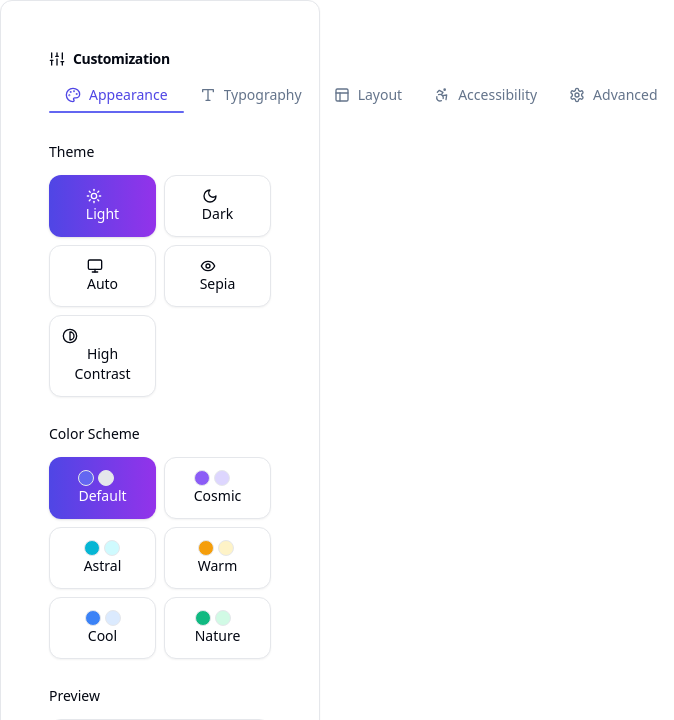
Test: Enhanced Note Editor - Accessibility Tests › High Contrast Mode › should apply high contrast styles when enabled
The image size is (674, 720).
Navigate to accessibility tab first
Click the tab "Accessibility". click: (486, 96)
box: [418, 77, 553, 115]
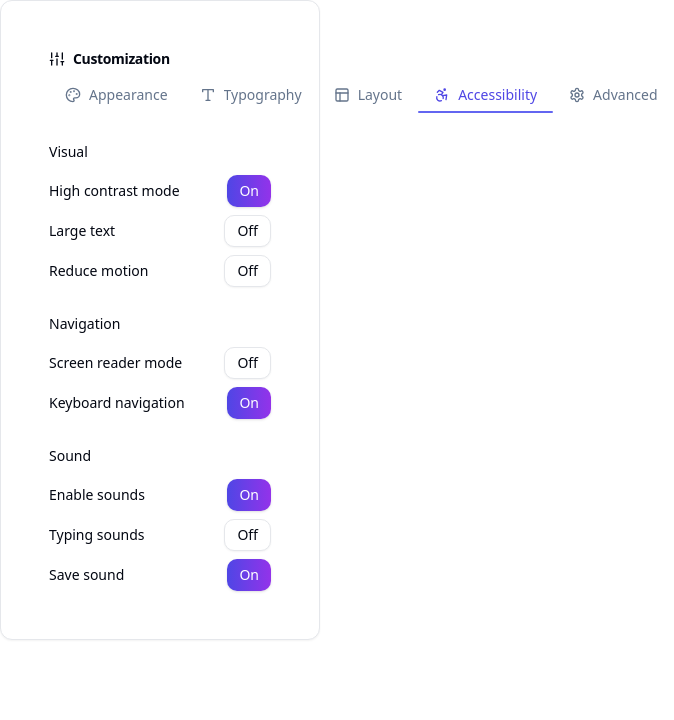
Now the button "On" next to "High contrast mode" is shown, box [227, 175, 271, 207]
